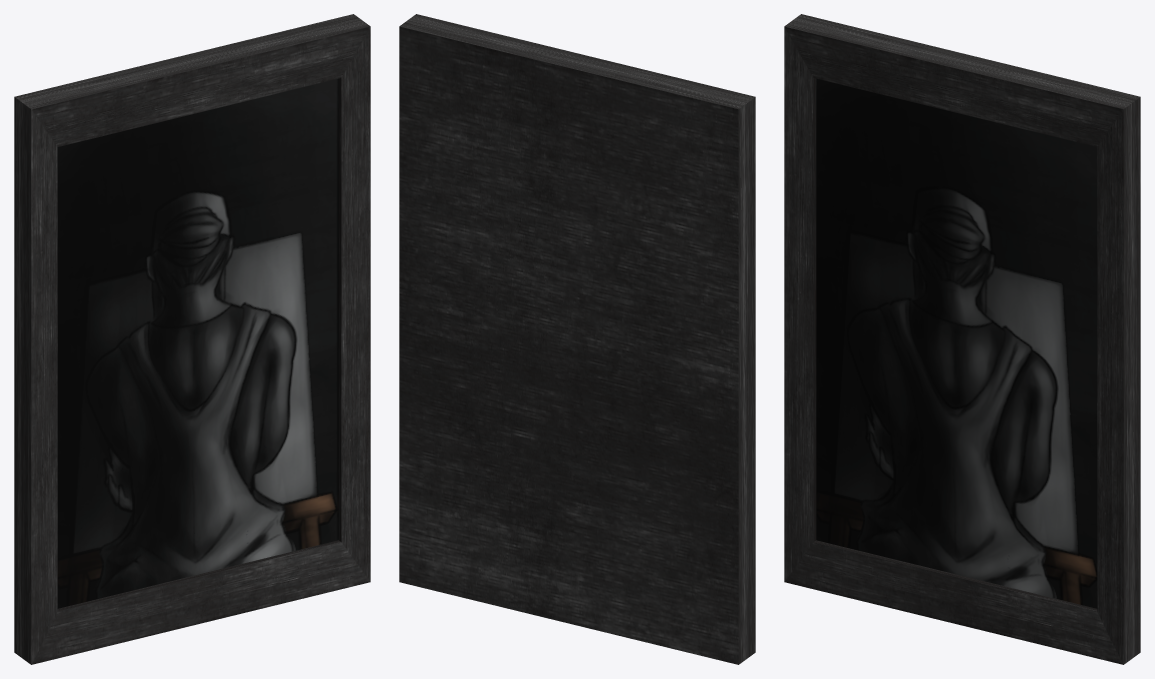
File: painting_main_2.fbx
The picture shows the model from 3 angles, left to right: view 1: azimuth 30°, elevation 25°; view 2: azimuth 150°, elevation 25°; view 3: azimuth 330°, elevation 25°; orthographic projection.
Parts seen in each view (by area): view 1: painting_Var1.003; view 2: painting_Var1.003; view 3: painting_Var1.003.
Part boxes in pixels (x1,y1,x2,y2): painting_Var1.003: (14, 14, 370, 664); painting_Var1.003: (399, 14, 755, 664); painting_Var1.003: (784, 14, 1140, 664).
Bounding box in the file's own units: 59.07 × 92.39 × 5.15.
1 material, 1 textured.
